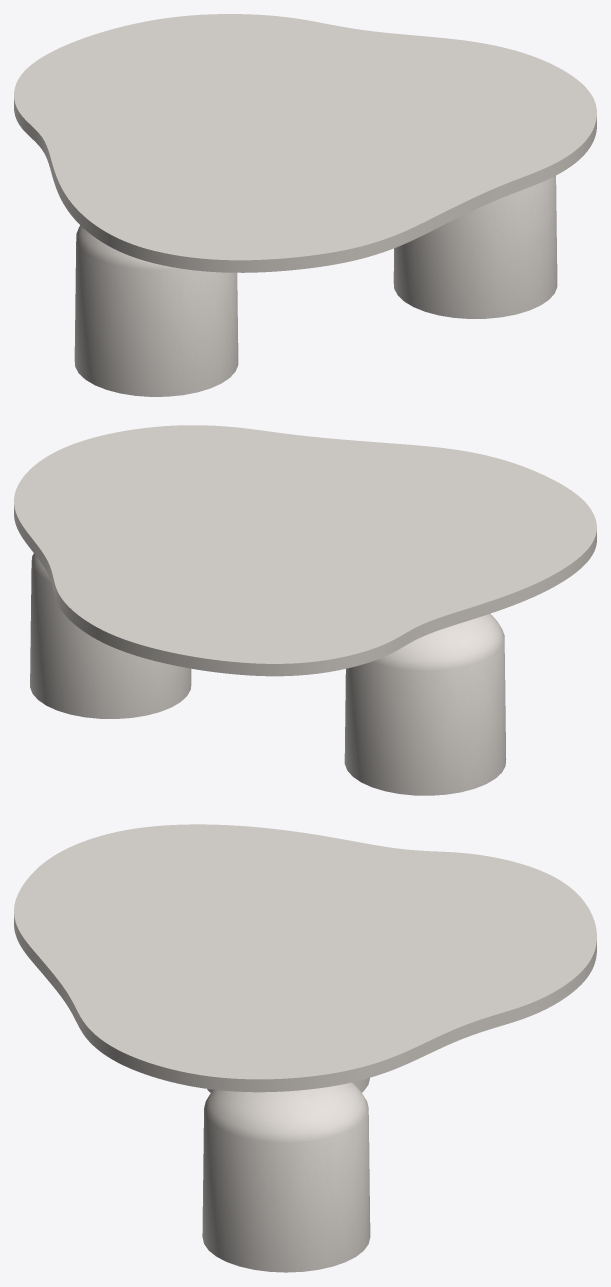
The model's file is pearlwhite_topone_standard_tornado.glb.
The picture shows the model from 3 angles, top to bottom: view 1: azimuth 30°, elevation 25°; view 2: azimuth 150°, elevation 25°; view 3: azimuth 270°, elevation 25°; orthographic projection. The views are drawn at different scales.
Parts seen in each view (by area): view 1: standard_topone, tornado; view 2: standard_topone, tornado; view 3: standard_topone, tornado.
Boxes of the visible parts, x1=… form: standard_topone: x1=14, y1=14, x2=596, y2=272; tornado: x1=74, y1=175, x2=557, y2=396; standard_topone: x1=14, y1=425, x2=596, y2=676; tornado: x1=30, y1=553, x2=506, y2=795; standard_topone: x1=14, y1=824, x2=596, y2=1092; tornado: x1=202, y1=1078, x2=370, y2=1272.
Bounding box in the file's own units: 6.83 × 2.5 × 6.6.
1 material, 1 textured.
